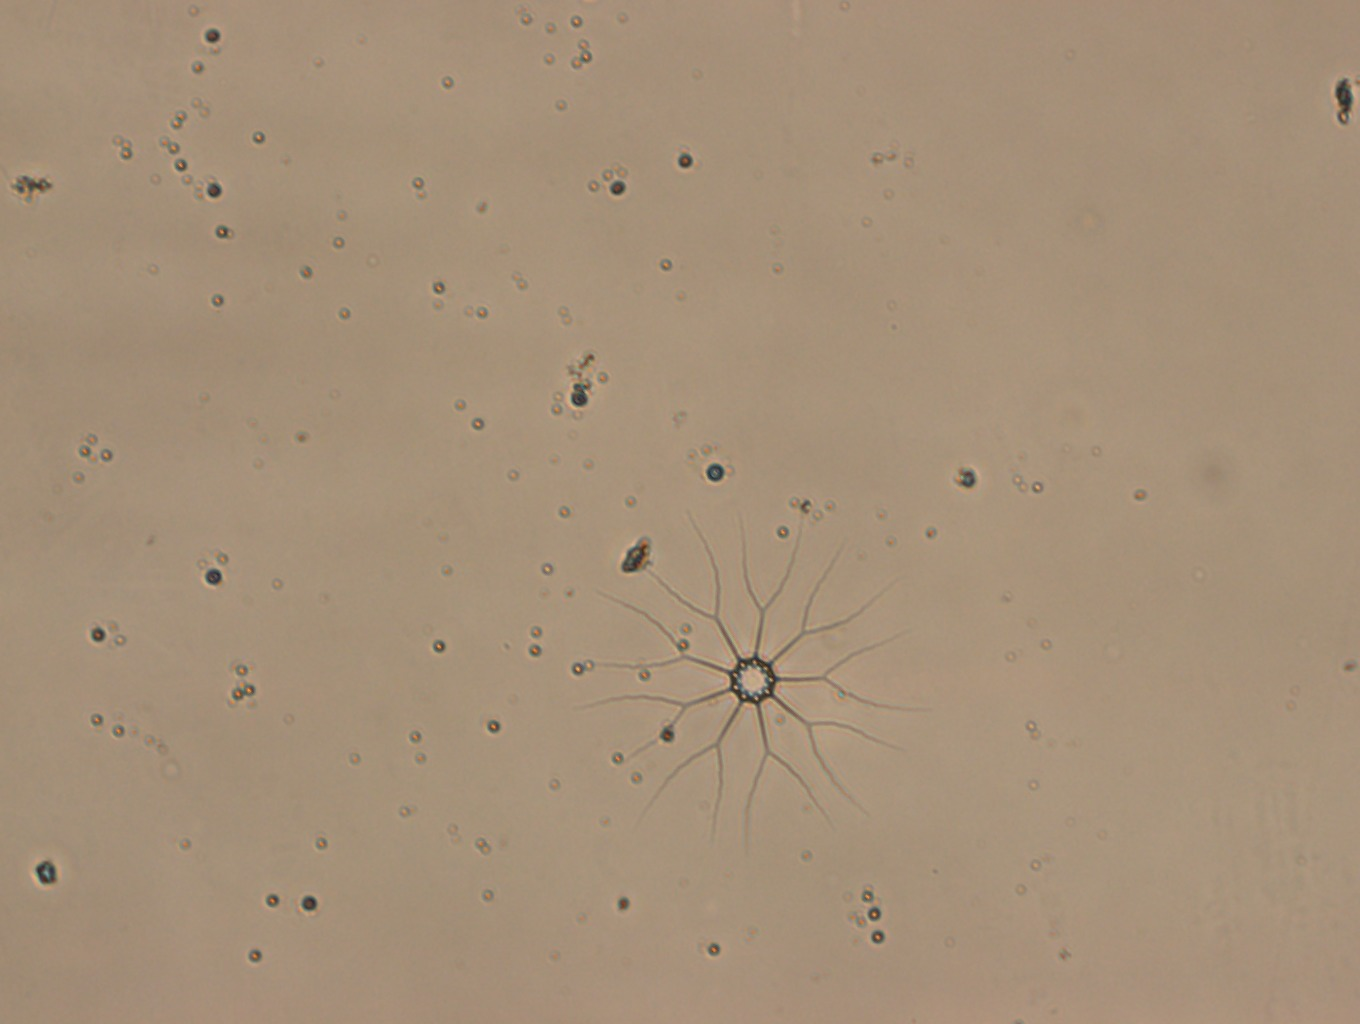bacteriastrum: (570, 509, 937, 839)
